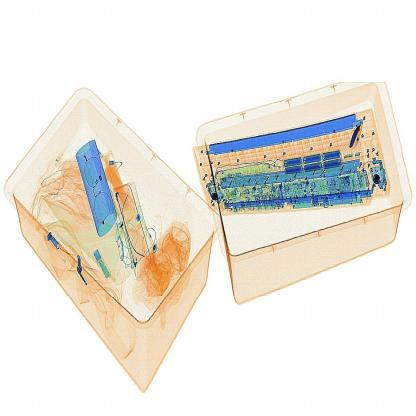wrench: (349, 111, 371, 153)
